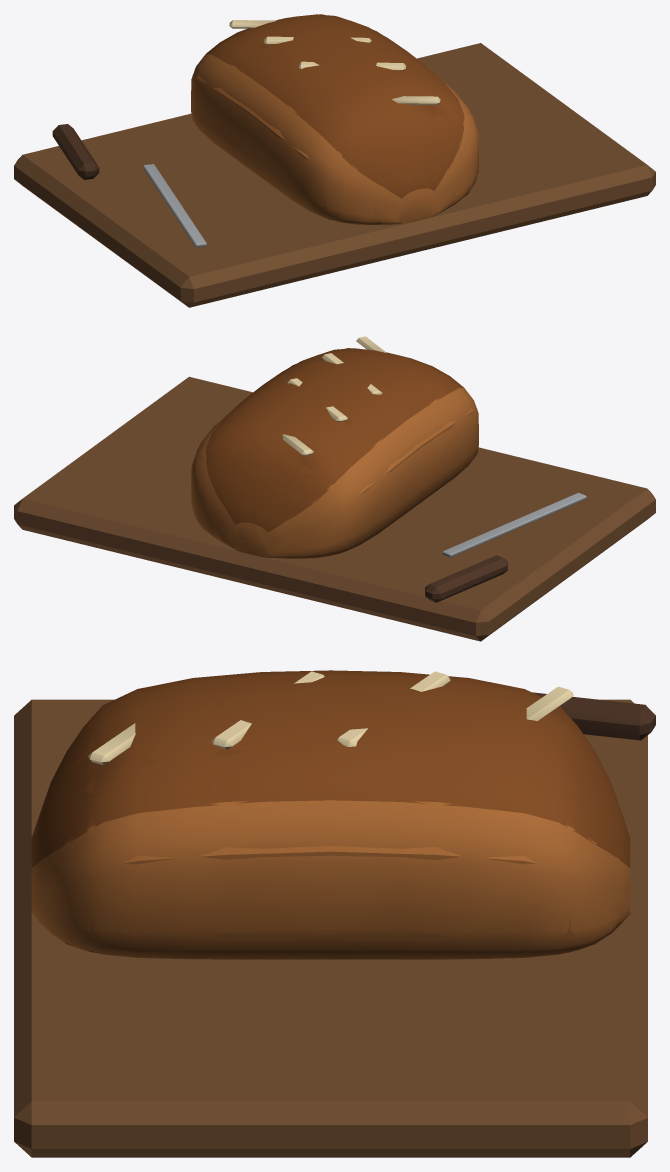
File: loaf.glb
3 views of the same model, one above another, from view 1: azimuth 30°, elevation 25°; view 2: azimuth 150°, elevation 25°; view 3: azimuth 270°, elevation 25° (orthographic). The views are drawn at different scales.
Visible parts, largest first — view 1: board, loaf (×2), knife; view 2: board, loaf (×2), knife; view 3: loaf (×2), board, knife.
Part boxes in pixels (x1,y1,x2,y2): board: (14,43,655,307); loaf (×2): (191,14,478,224); knife: (52,124,206,247); board: (14,376,655,641); loaf (×2): (191,336,478,558); knife: (425,492,586,602); loaf (×2): (31,670,630,959); board: (14,699,647,1157); knife: (532,692,655,740).
Bounding box in the file's own units: 0.56 × 0.16 × 0.3645.
